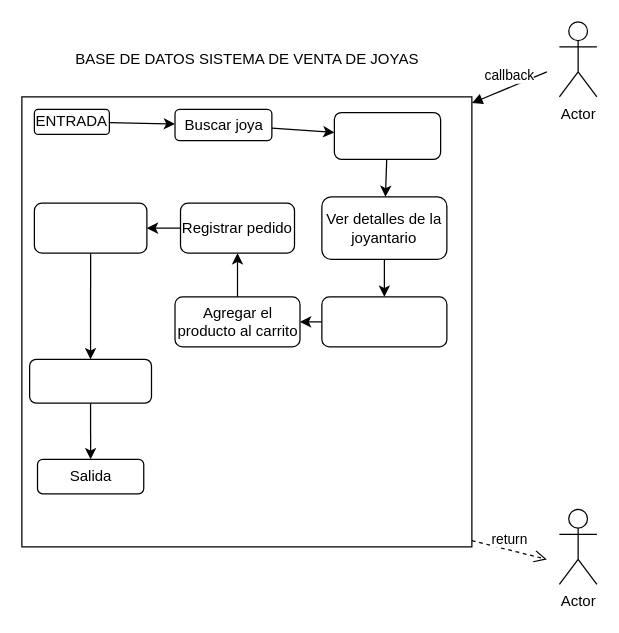
Image size: 619x633. Some labels were removed from this diagram. The shapes that lost their labels are listed below. From the top down, each one's centre as x and y in pixels, then its label:
At (387,135): "Gestionar inventario".
At (90,227): "Procesar pago".
At (384,321): "Personaliza joya".
At (90,380): "Actualiza stock".
